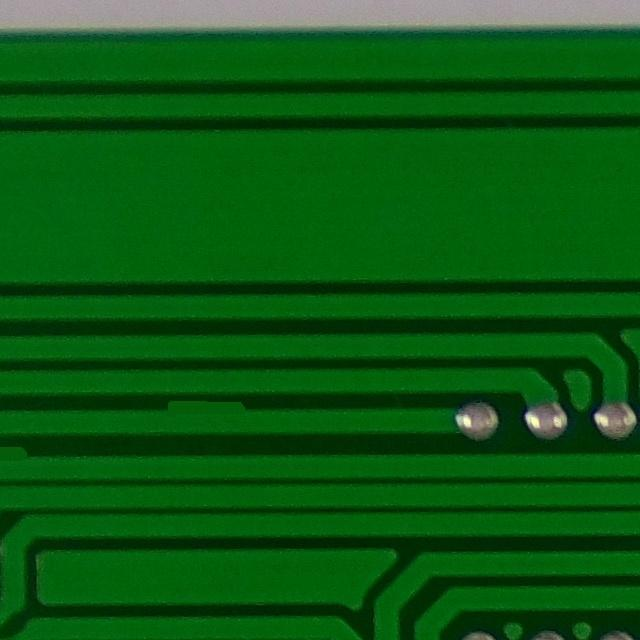spur: (157, 386, 252, 431)
